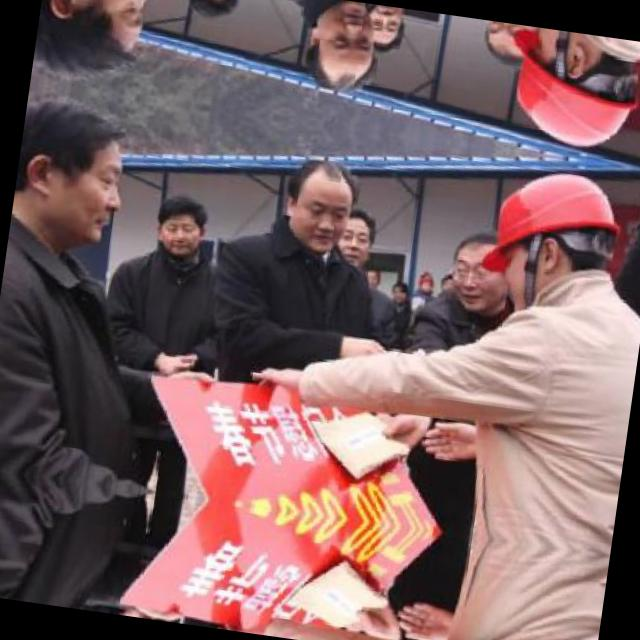helmet: (464, 147, 640, 325), (486, 23, 640, 169)
